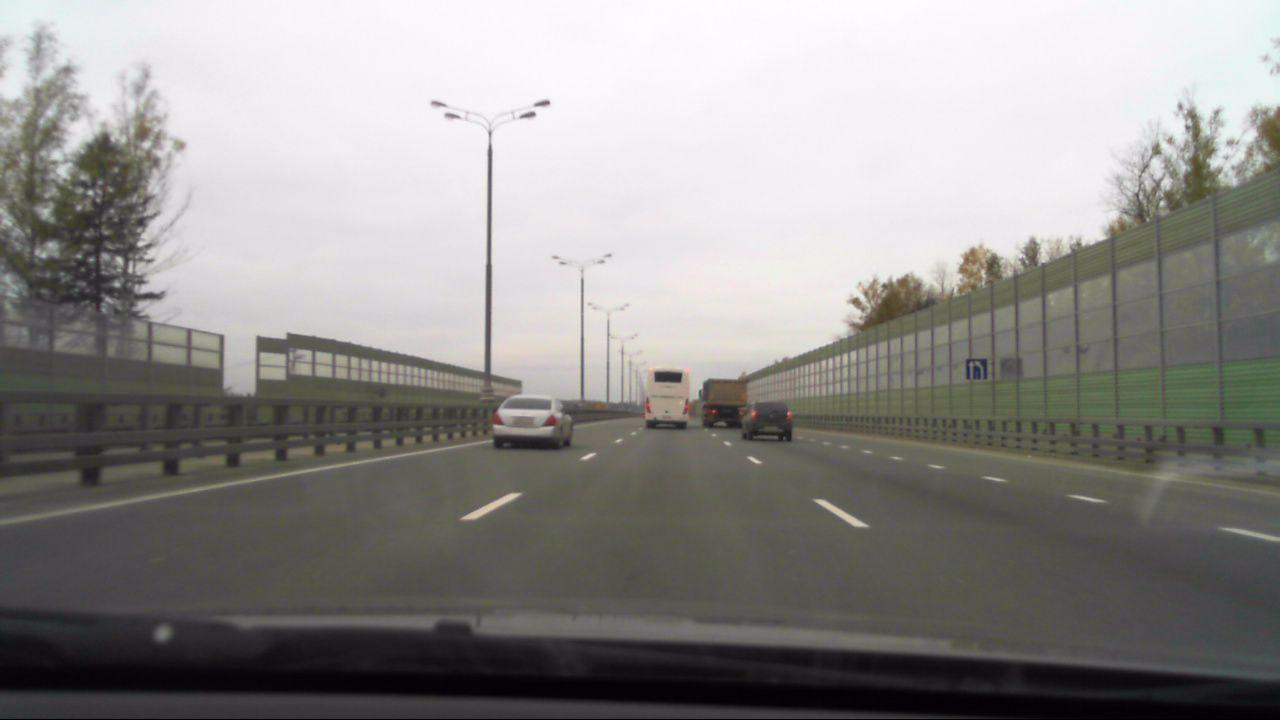5_15_5: (966, 357, 988, 378)
